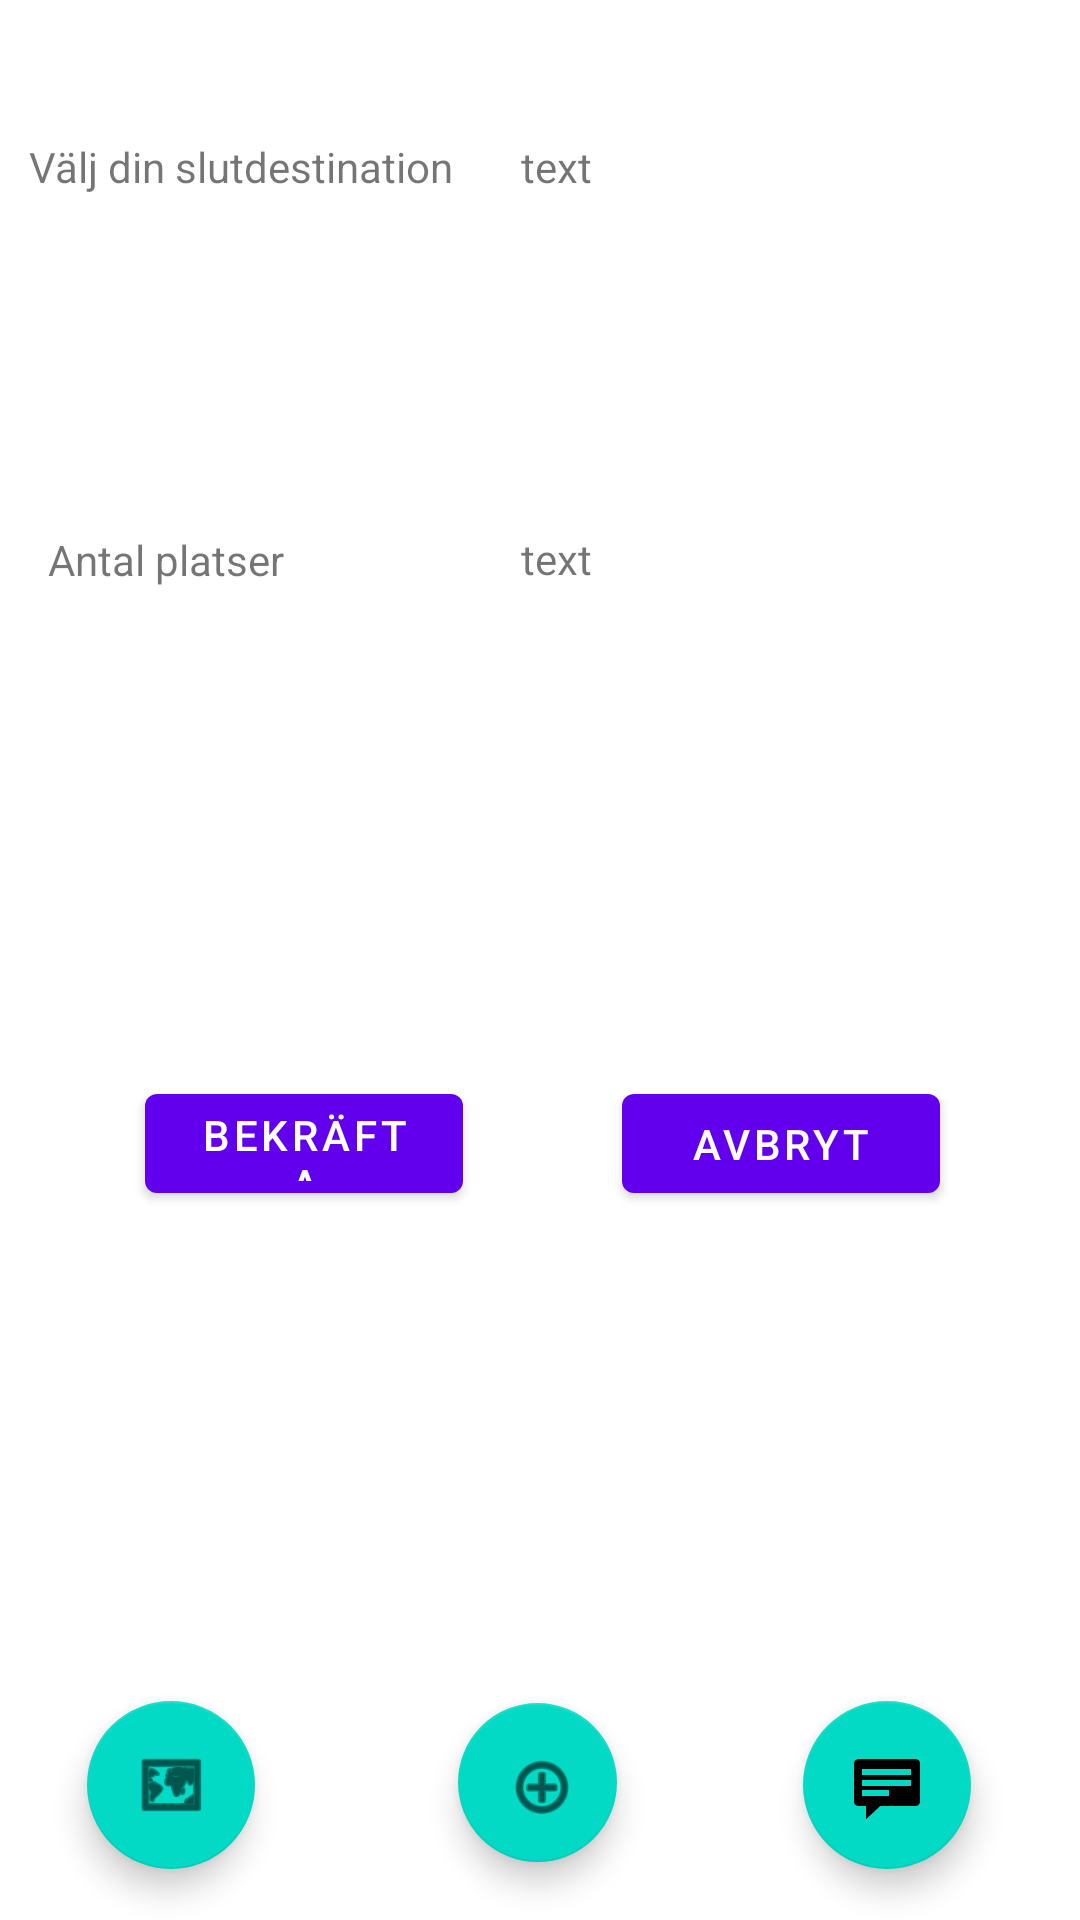

Screen size 1080*1920. Icon name, then its center in pixels as (x,y):
add: (537,1782)
chat: (887,1785)
mapmode: (171,1785)
